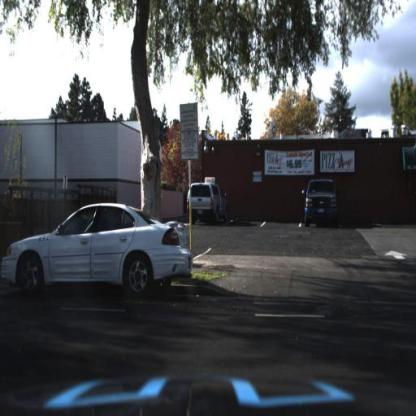car: (2, 194, 198, 306), (299, 177, 343, 234), (180, 179, 232, 227)
